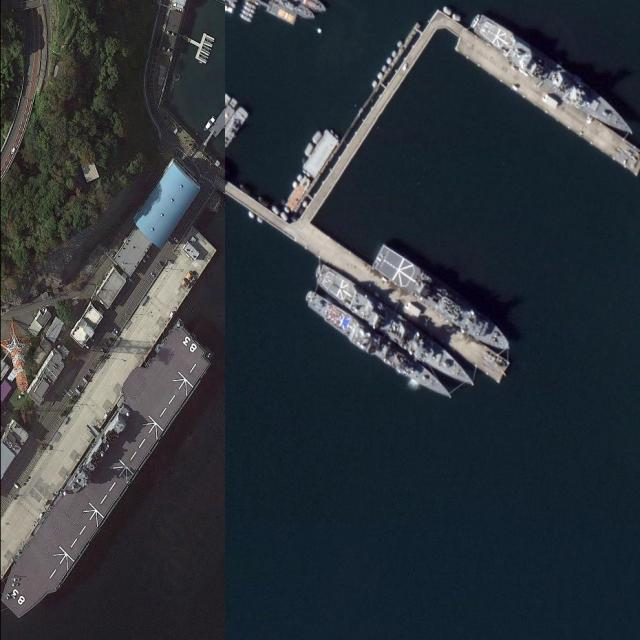Auxiliary Ships: (368, 242, 521, 359)
Destroyer: (1, 326, 217, 616), (307, 262, 484, 394), (470, 12, 638, 145), (303, 290, 456, 404)
Dock: (297, 224, 514, 380)
